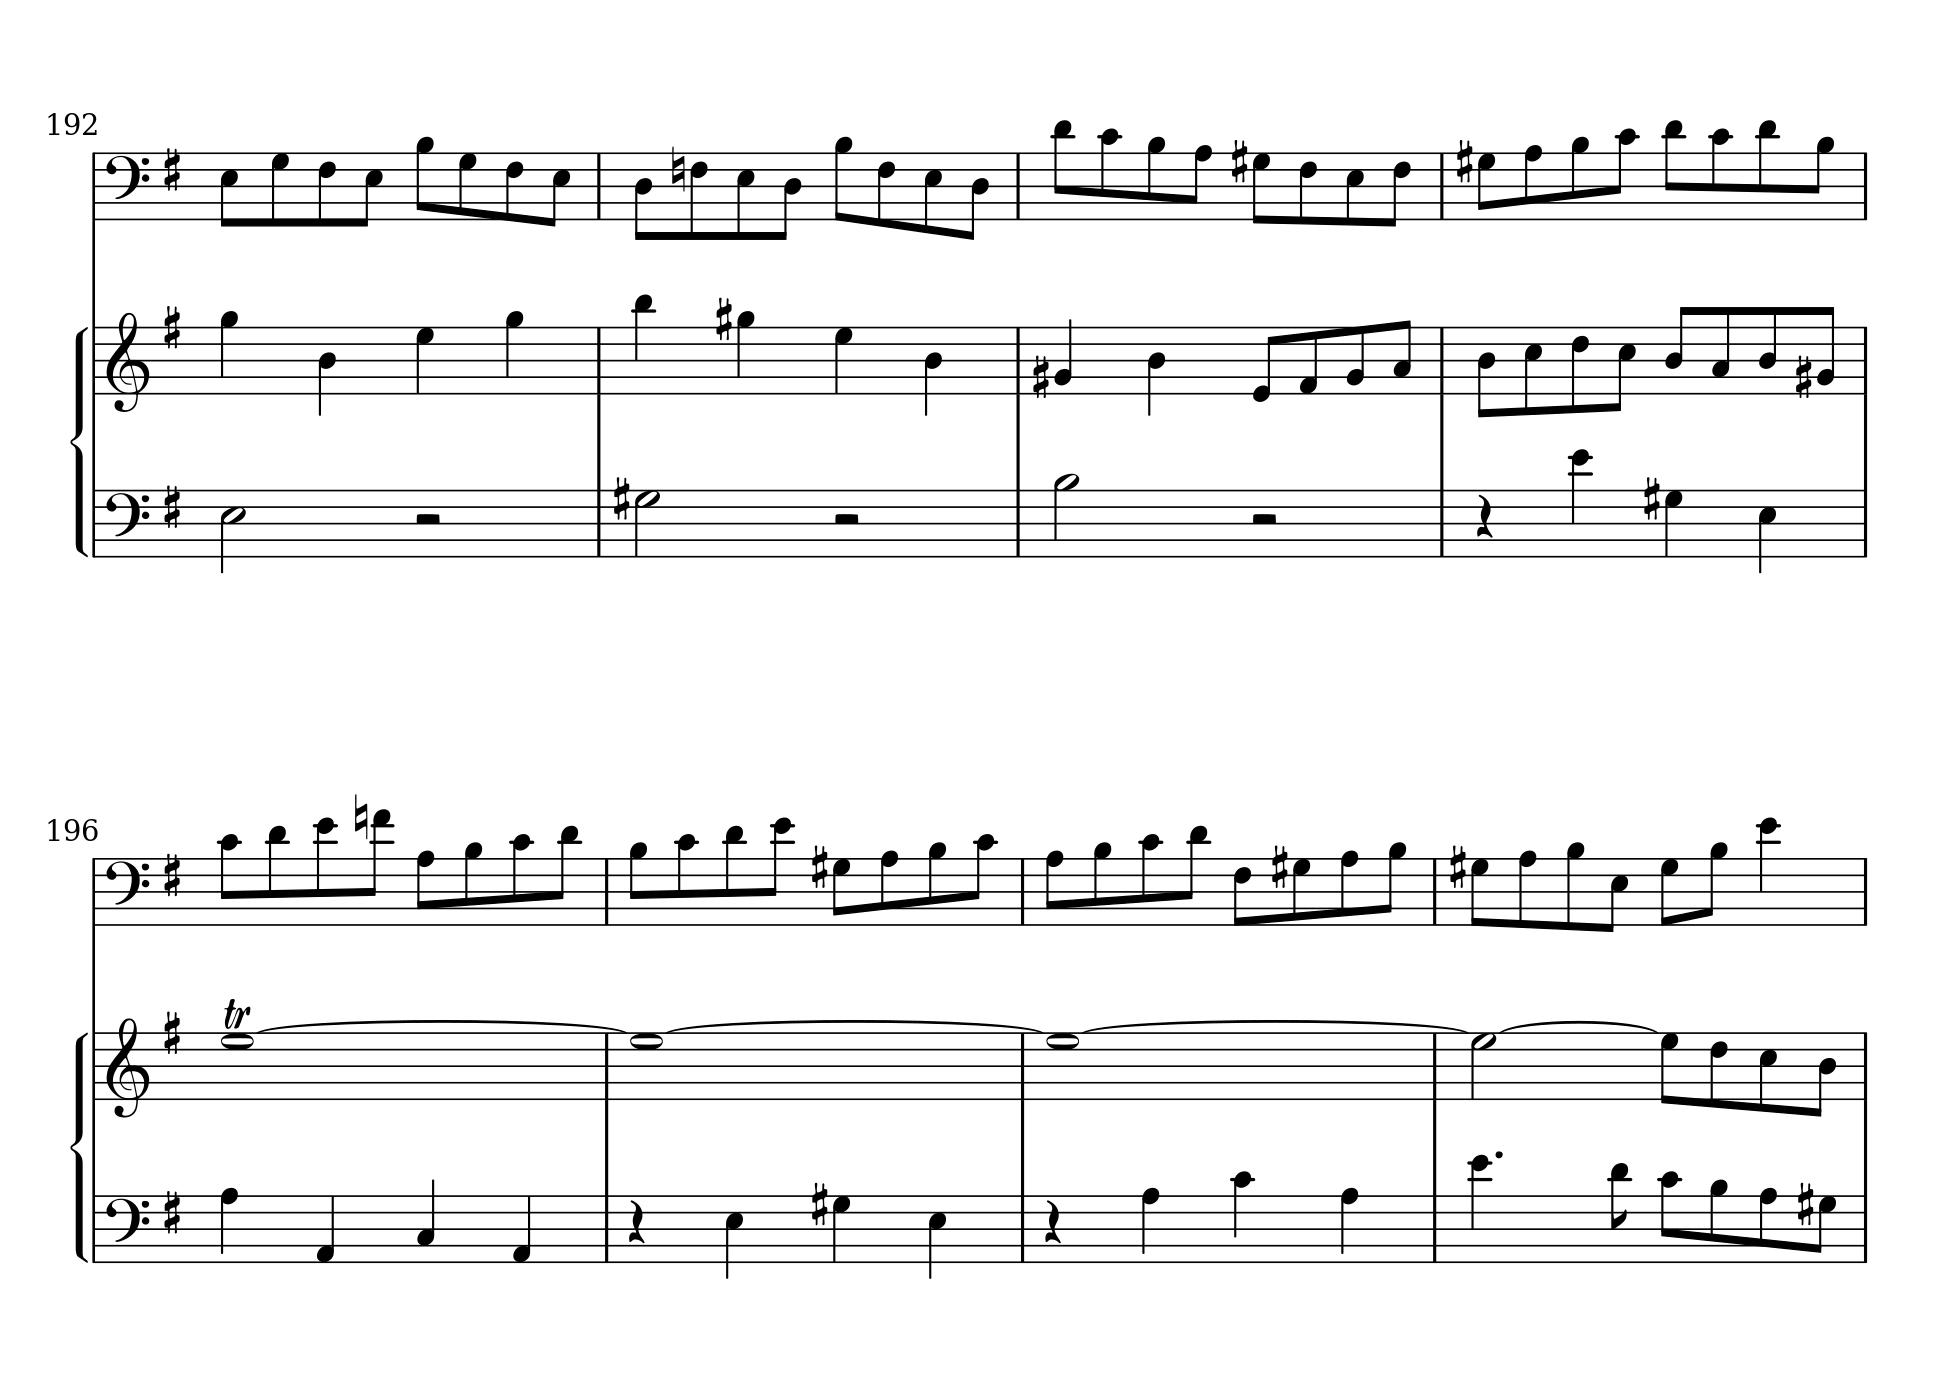1: (46, 814, 61, 841), (46, 109, 60, 136)
1_7: (219, 1030, 255, 1102), (630, 1030, 664, 1102), (1047, 1030, 1080, 1102)
2: (79, 109, 97, 136)
2_5: (219, 487, 246, 574)
2_7: (633, 487, 660, 558), (1470, 1030, 1497, 1101)
2_9: (1051, 472, 1080, 559)
4_1: (313, 1192, 336, 1264), (510, 1192, 532, 1264)
4_10: (1230, 1168, 1254, 1263)
4_11: (631, 292, 655, 396)
4_12: (1567, 447, 1594, 561), (1755, 814, 1782, 928), (1467, 1152, 1494, 1264)
4_2: (1053, 316, 1075, 394)
4_3: (415, 1177, 436, 1263)
4_4: (1146, 324, 1168, 418), (922, 325, 943, 418), (316, 325, 337, 417)
4_5: (723, 1192, 745, 1282), (925, 1192, 948, 1282), (1756, 487, 1779, 576)
4_7: (414, 324, 436, 394), (831, 1192, 853, 1263), (832, 325, 855, 394), (1663, 487, 1686, 556)
4_8: (217, 1183, 241, 1264), (1140, 1183, 1164, 1264), (1338, 1183, 1362, 1264)
4_9: (502, 307, 523, 396), (217, 309, 238, 396)
6: (61, 814, 79, 843), (81, 816, 99, 841)
8_0: (1251, 325, 1279, 405)
8_1: (1296, 324, 1320, 396)
8_10: (966, 832, 997, 927), (1609, 126, 1639, 220), (217, 832, 243, 925), (1708, 126, 1732, 222), (1098, 127, 1122, 222), (673, 831, 697, 925), (1140, 831, 1162, 927), (510, 832, 532, 927), (1659, 1168, 1681, 1261)
8_11: (1180, 823, 1212, 927), (550, 823, 580, 927), (1755, 117, 1779, 223), (1051, 117, 1075, 222), (1662, 117, 1686, 222), (1608, 1159, 1632, 1264), (265, 823, 289, 927), (721, 822, 745, 925)
8_12: (763, 814, 795, 927), (313, 814, 339, 928)
8_13: (363, 807, 394, 927)
8_2: (1815, 304, 1836, 394), (1344, 322, 1366, 394)
8_3: (1710, 304, 1734, 396), (1392, 318, 1413, 396)
8_4: (961, 150, 991, 243), (774, 150, 802, 241), (1665, 304, 1693, 396), (1809, 1030, 1837, 1119), (631, 151, 654, 243), (1758, 304, 1780, 394), (1476, 325, 1497, 418)
8_5: (1608, 324, 1638, 412), (355, 150, 384, 228), (543, 150, 571, 228), (1602, 856, 1630, 933), (733, 148, 756, 241), (1522, 324, 1543, 415), (922, 148, 943, 237), (1758, 1029, 1779, 1114), (217, 148, 238, 229), (1344, 150, 1365, 226)
8_6: (1383, 150, 1413, 229), (688, 151, 709, 243), (1569, 324, 1590, 415), (316, 150, 337, 229), (874, 150, 895, 229), (1708, 1029, 1729, 1108), (502, 150, 525, 223), (1297, 150, 1318, 226), (1233, 855, 1254, 928)
8_7: (1812, 1192, 1839, 1263), (268, 150, 291, 226), (1468, 855, 1491, 928), (829, 855, 852, 927), (1290, 855, 1312, 925), (1251, 150, 1272, 225), (1659, 1029, 1680, 1104), (456, 151, 478, 220), (1476, 150, 1497, 220), (1659, 856, 1680, 927)
8_8: (1185, 142, 1213, 222), (877, 847, 901, 927), (1516, 847, 1539, 930), (1521, 142, 1543, 222), (1044, 847, 1066, 927), (1338, 847, 1360, 925), (415, 847, 436, 927), (1758, 1185, 1779, 1264)
8_9: (1806, 135, 1836, 223), (1378, 841, 1408, 927), (1701, 840, 1728, 927), (1564, 840, 1587, 931), (627, 840, 651, 925), (733, 307, 756, 396), (414, 135, 436, 222), (925, 840, 948, 927), (1092, 840, 1114, 927), (832, 135, 853, 223), (1146, 135, 1167, 222), (1569, 133, 1590, 220), (463, 840, 484, 927), (1708, 1177, 1729, 1263)
9: (61, 109, 79, 136)
Brace: (69, 1027, 90, 1264), (69, 322, 88, 556)
Fclef: (100, 1189, 150, 1264), (100, 855, 150, 927), (100, 148, 148, 220), (102, 486, 150, 558)
Gclef: (103, 1015, 151, 1119), (105, 309, 150, 412)
Natural: (352, 790, 369, 841), (669, 144, 685, 193)
Rests2: (412, 510, 444, 526), (831, 511, 862, 528), (1248, 511, 1281, 526)
Rests4: (1039, 1197, 1065, 1248), (624, 1197, 648, 1246), (1473, 492, 1495, 540)
Sharp: (160, 145, 184, 195), (160, 481, 183, 532), (160, 1188, 183, 1237), (1269, 841, 1290, 891), (712, 295, 733, 343), (1030, 352, 1051, 400), (1641, 474, 1662, 522), (808, 843, 829, 891), (808, 1180, 829, 1228), (1447, 841, 1467, 892), (1230, 136, 1249, 186), (1455, 136, 1474, 186), (1795, 1179, 1815, 1228), (162, 303, 181, 351), (1794, 352, 1813, 400), (610, 475, 630, 523), (162, 850, 181, 898), (162, 1008, 181, 1056)
Single_barline: (1855, 856, 1875, 925), (1857, 151, 1875, 219), (1009, 489, 1027, 556), (597, 856, 615, 924), (1014, 856, 1032, 924), (1426, 1194, 1444, 1261), (589, 327, 607, 393), (597, 1195, 615, 1261), (1014, 1033, 1032, 1098), (1426, 1033, 1444, 1098), (1014, 1195, 1032, 1260), (1857, 325, 1873, 394), (87, 325, 103, 394), (1857, 1030, 1873, 1099), (1857, 1194, 1873, 1263), (1434, 325, 1450, 393), (591, 489, 607, 556), (87, 1032, 103, 1099), (1009, 327, 1026, 393), (87, 490, 103, 556), (1434, 490, 1450, 555), (598, 1033, 615, 1098), (591, 154, 607, 217), (1011, 151, 1026, 219), (87, 858, 102, 925), (87, 153, 102, 219), (1857, 490, 1872, 556), (88, 1195, 103, 1261), (1428, 859, 1443, 924), (1435, 153, 1449, 219)
Slur: (667, 1015, 1045, 1033), (255, 1017, 631, 1033), (1087, 1020, 1470, 1033), (1491, 1017, 1659, 1033)
Trill: (220, 996, 252, 1029)
dot: (1491, 1146, 1506, 1162)
